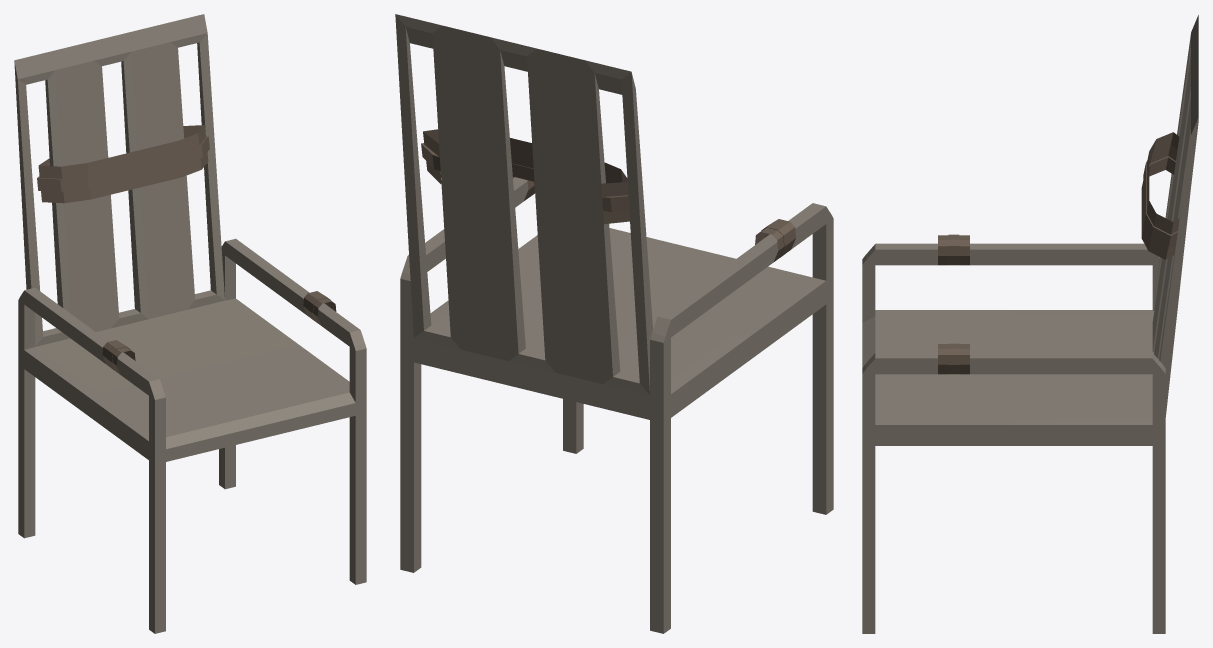
Rendered from Cadeira.fbx.
3 renders of one model, left to right at view 1: azimuth 30°, elevation 25°; view 2: azimuth 150°, elevation 25°; view 3: azimuth 270°, elevation 25°, orthographic. The views are drawn at different scales.
Parts seen in each view (by area): view 1: Cadeira; view 2: Cadeira; view 3: Cadeira.
Boxes of the visible parts, box(x1,y1,x2,y2) form: Cadeira: box(14, 14, 366, 633); Cadeira: box(395, 14, 833, 633); Cadeira: box(862, 15, 1198, 633).
Bounding box in the file's own units: 59.62 × 119 × 71.07.
